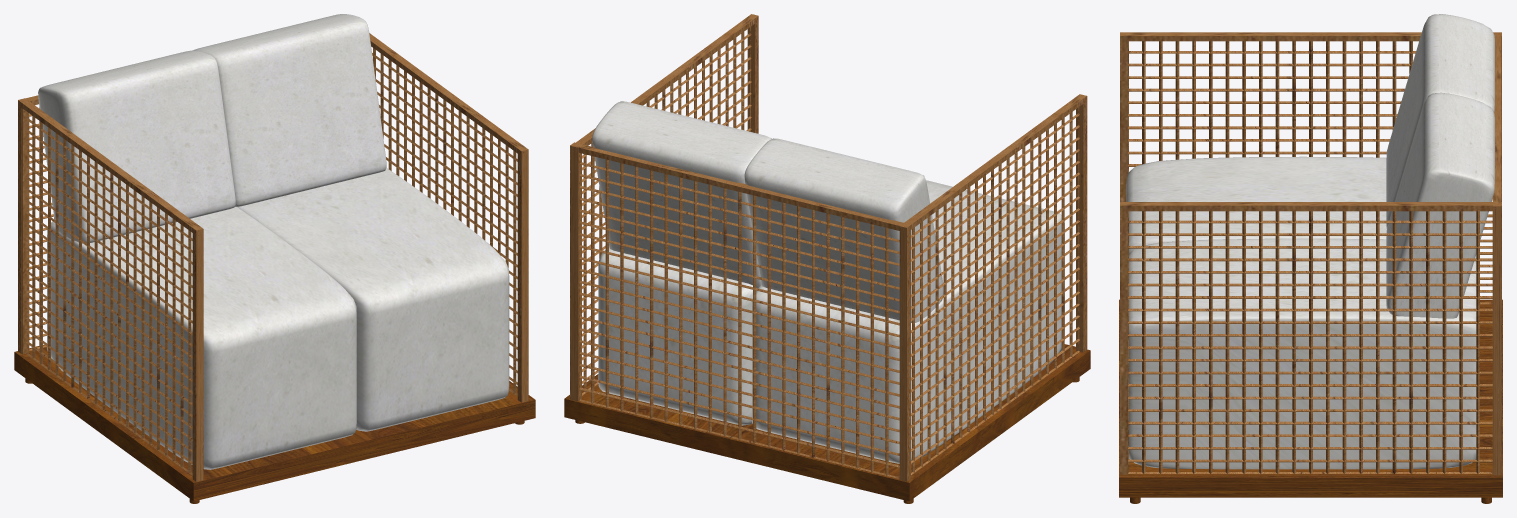
The model's file is Lulu2seater.glb.
The picture shows the model from 3 angles, left to right: view 1: azimuth 30°, elevation 25°; view 2: azimuth 150°, elevation 25°; view 3: azimuth 270°, elevation 25°; orthographic projection. The views are drawn at different scales.
Visible parts, largest first — view 1: Cube.002, Cube.003, Cube.004, Plane, Cube.005, Cube.001, Plane.001, Cube.006, Cube.007, Cube.008, Plane.002; view 2: Plane.002, Cube.002, Plane, Cube.005, Cube.004, Cube.001, Cube.003, Cube.006, Cube.007, Plane.001, Cube.008; view 3: Cube.003, Plane.001, Cube.002, Cube.004, Plane, Cube.001, Cube.005, Cube.007, Cube.006, Cube.008.
Boxes of the visible parts, x1=… form: Cube.002: x1=47, y1=207, x2=356, y2=469; Cube.003: x1=238, y1=168, x2=509, y2=431; Cube.004: x1=192, y1=14, x2=386, y2=206; Plane: x1=25, y1=116, x2=192, y2=475; Cube.005: x1=38, y1=50, x2=235, y2=243; Cube.001: x1=14, y1=344, x2=535, y2=501; Plane.001: x1=372, y1=48, x2=517, y2=396; Cube.006: x1=18, y1=98, x2=203, y2=481; Cube.007: x1=369, y1=33, x2=528, y2=402; Cube.008: x1=19, y1=95, x2=38, y2=354; Plane.002: x1=29, y1=107, x2=54, y2=350; Plane.002: x1=579, y1=156, x2=899, y2=478; Cube.002: x1=752, y1=180, x2=1064, y2=463; Plane: x1=911, y1=107, x2=1079, y2=475; Cube.005: x1=744, y1=138, x2=943, y2=322; Cube.004: x1=592, y1=101, x2=771, y2=288; Cube.001: x1=564, y1=344, x2=1090, y2=501; Cube.003: x1=598, y1=245, x2=752, y2=425; Cube.006: x1=899, y1=94, x2=1087, y2=481; Cube.007: x1=571, y1=14, x2=758, y2=401; Plane.001: x1=582, y1=27, x2=751, y2=395; Cube.008: x1=570, y1=142, x2=910, y2=478; Cube.003: x1=1129, y1=238, x2=1476, y2=469; Plane.001: x1=1128, y1=211, x2=1492, y2=473; Cube.002: x1=1126, y1=156, x2=1386, y2=253; Cube.004: x1=1386, y1=92, x2=1494, y2=318; Plane: x1=1128, y1=41, x2=1492, y2=304; Cube.001: x1=1119, y1=299, x2=1502, y2=497; Cube.005: x1=1386, y1=14, x2=1494, y2=228; Cube.007: x1=1120, y1=202, x2=1501, y2=474; Cube.006: x1=1120, y1=32, x2=1501, y2=201; Cube.008: x1=1492, y1=32, x2=1501, y2=475.
Bounding box in the file's own units: 1.1 × 0.9327 × 1.
Materials: 3 (3 with a texture image).
